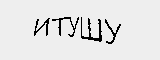И: (32, 15, 48, 39)
Т: (50, 12, 66, 38)
У: (105, 19, 122, 45), (66, 14, 81, 39)
Ш: (80, 15, 102, 43)
